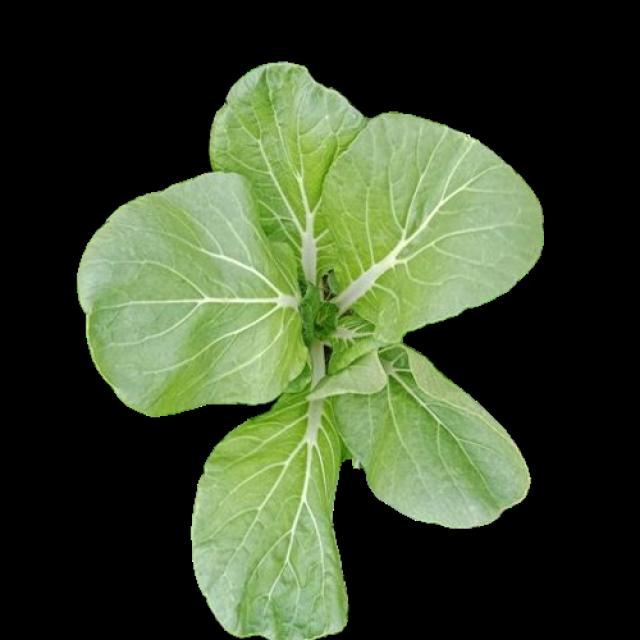healthy: (79, 65, 535, 625)
mature: (82, 68, 538, 627)
